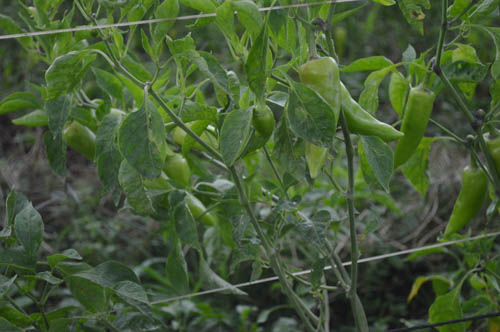ChiliPepper: (302, 58, 338, 179), (338, 87, 400, 144), (397, 89, 431, 172), (451, 167, 483, 237), (59, 125, 99, 156), (246, 105, 275, 138), (163, 151, 190, 185)
